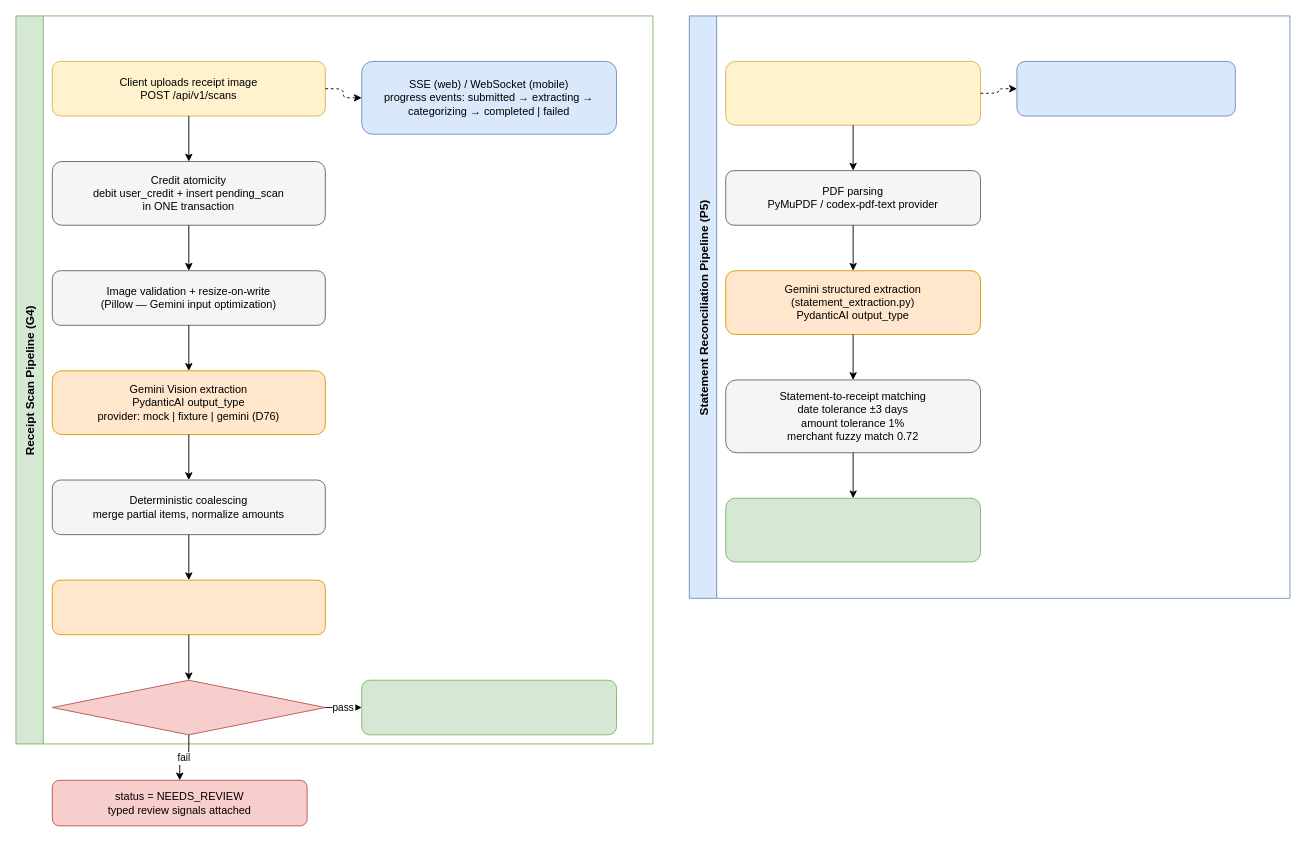
Some shapes in this 1306 by 842 pixel diagram are drawn without their labels. Here are the shapes that lost their labels. From the top down, the centre of each, then its label:
the point at 853,93: Client uploads PDF POST /api/v1/statements + card alias + AI-processing consent
the point at 1125,88: WebSocket progress stream (statement_events.py)
the point at 853,529: Coverage buckets matched · statement-only · app-only ambiguous · failed
the point at 188,607: V4 Categorization agent (PydanticAI) 86-category taxonomy (ItemCategory L1–L4)
the point at 188,707: Math reconciliation gate delta > 1 minor unit?
the point at 489,707: persist_scan.py Transaction + TransactionItems status = COMPLETED
